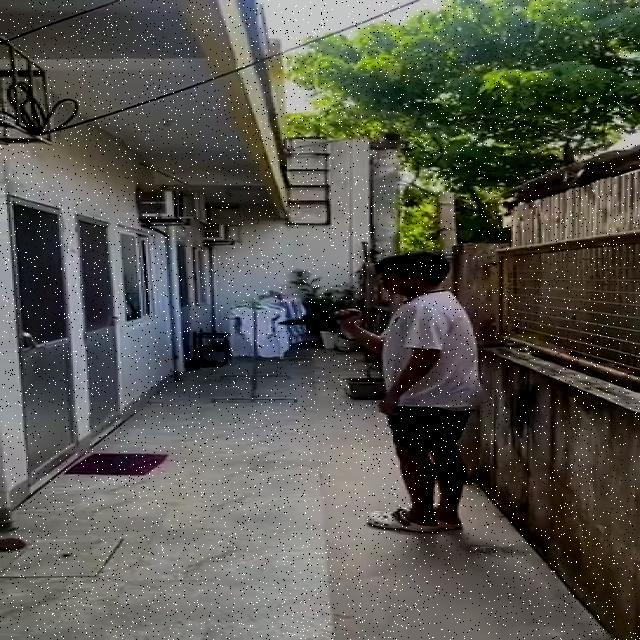knife: (282, 314, 341, 325)
non-violence: (280, 253, 482, 535)
